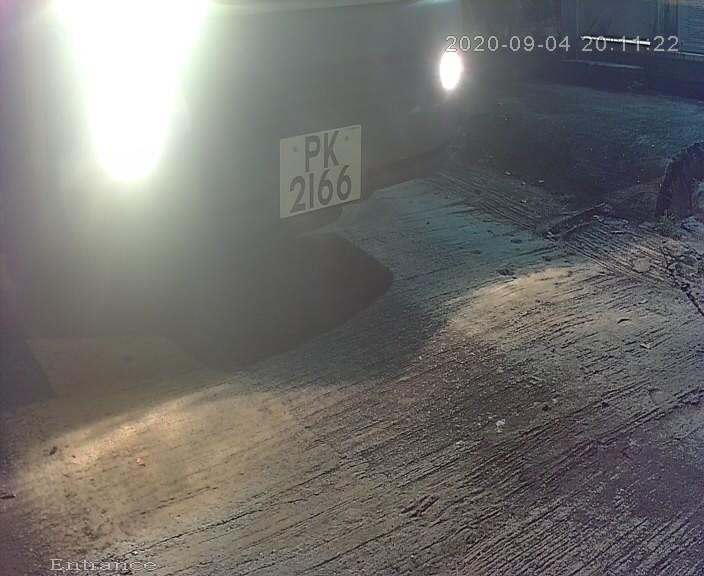Car: (29, 1, 544, 366)
License Plate: (268, 111, 371, 232)
